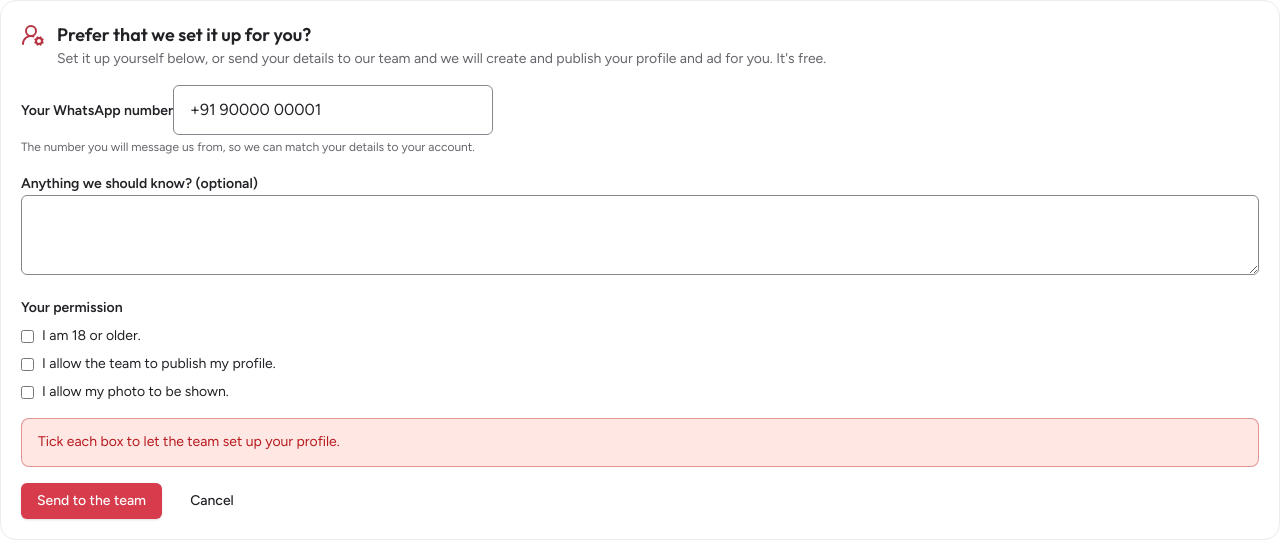
it: a Tutor sends their details with consent and gets a WhatsApp link quoting their reference
Earlier steps of the test are not shown.
Expected: the text "Tick each box to let the team set up your profile." is shown, [21, 418, 1259, 467]
Click the checkbox labelled "I am 18 or older." at (28, 336), box [21, 330, 34, 343]
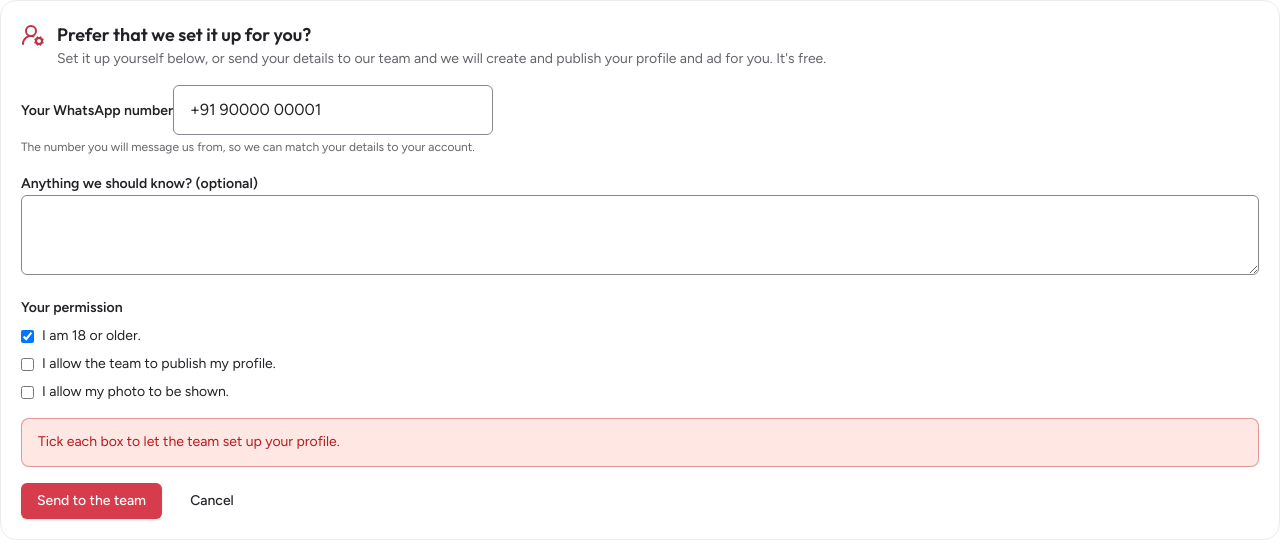
Click the checkbox labelled "I allow the team to publish my profile." at (28, 364), box [21, 358, 34, 371]
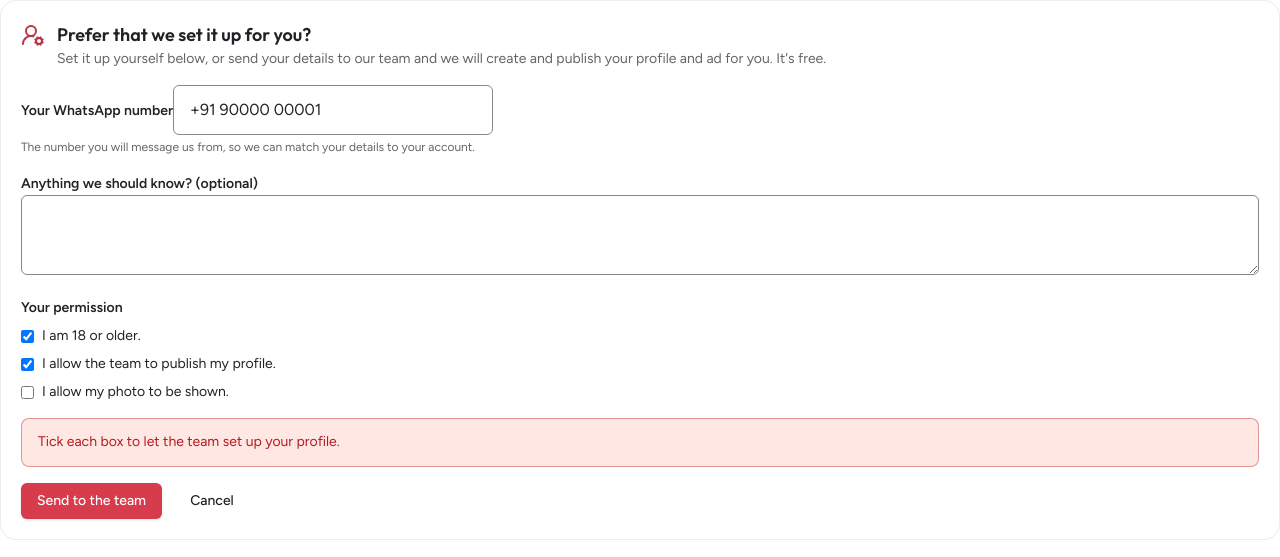
Click the checkbox labelled "I allow my photo to be shown." at (28, 392), box [21, 386, 34, 399]
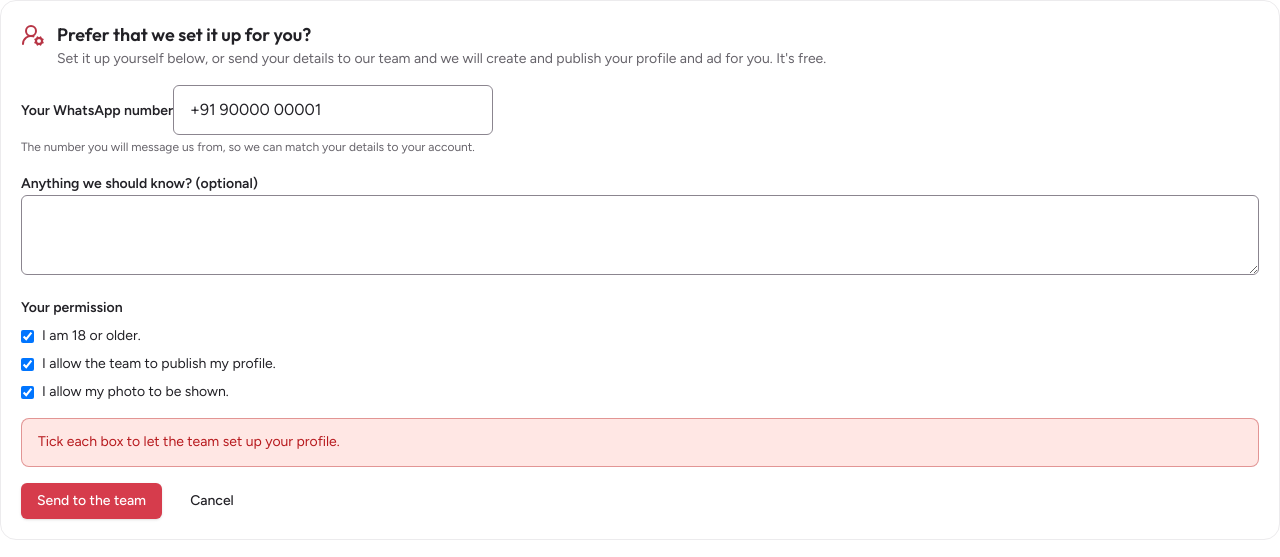
Click the button "Send to the team" at (92, 501), box [21, 483, 162, 519]
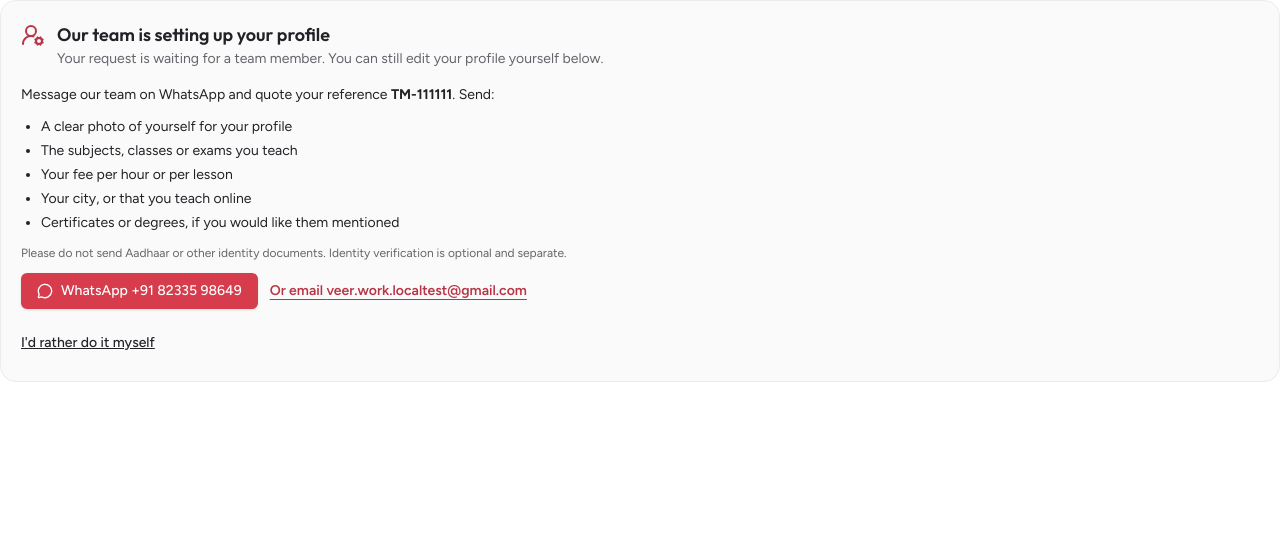
Click the button "I'd rather do it myself" at (88, 343), box [21, 325, 155, 361]
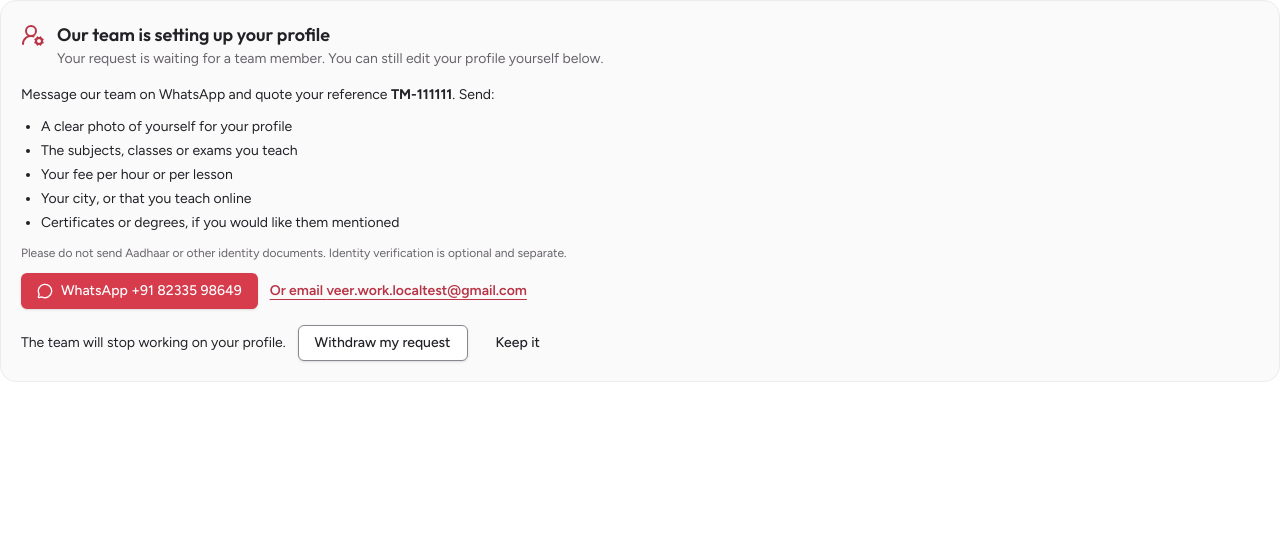
Click the button "Withdraw my request" at (383, 343), box [298, 325, 468, 361]
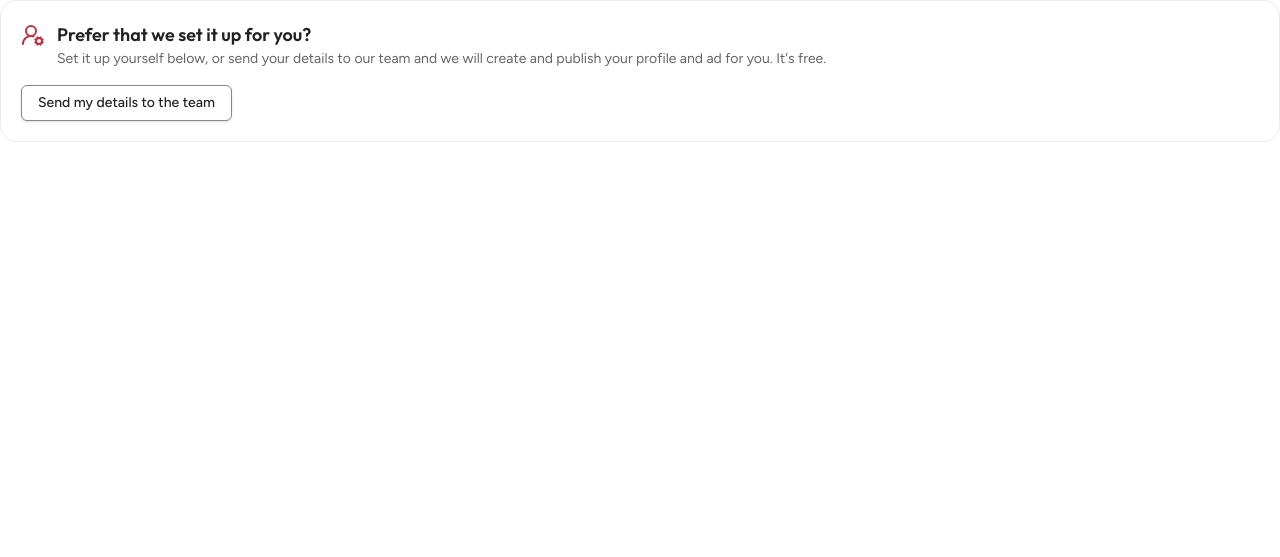
Expected: the button "Send my details to the team" is shown, [21, 85, 232, 121]
